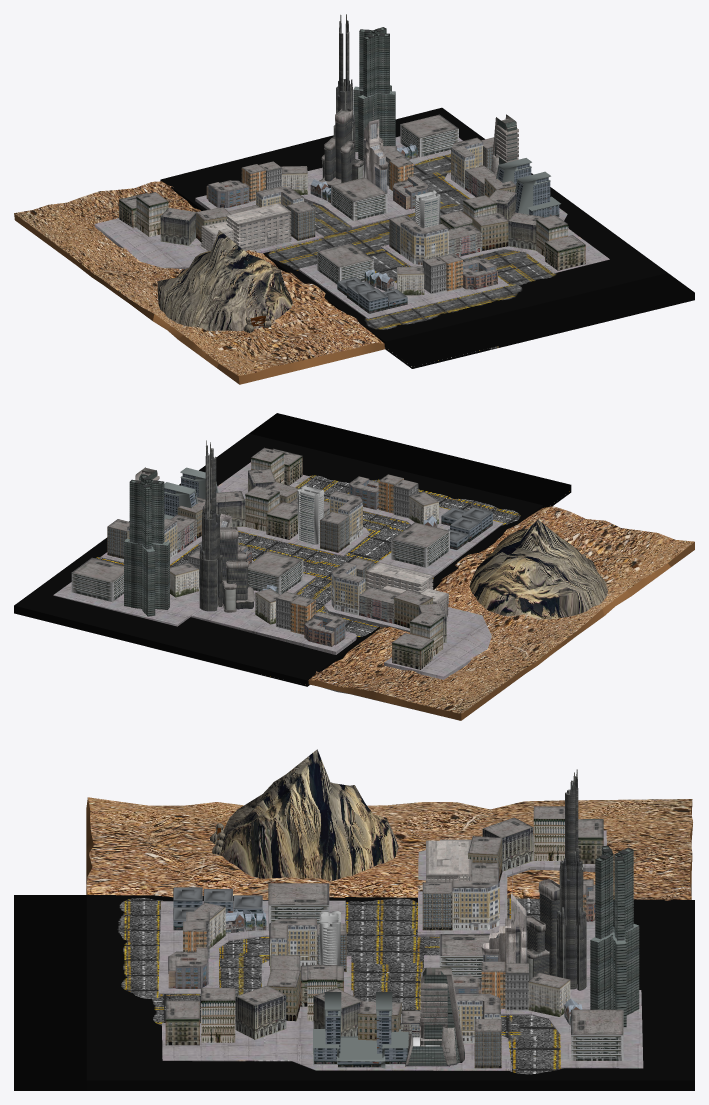
Rendered from Mapa animacion Hospital.fbx.
3 renders of one model, top to bottom at view 1: azimuth 30°, elevation 25°; view 2: azimuth 150°, elevation 25°; view 3: azimuth 270°, elevation 25°, orthographic. The views are drawn at different scales.
Parts seen in each view (by area): view 1: The City, Piso, Tierra, Montaña, Banquetas; view 2: The City, Piso, Tierra, Banquetas, Montaña; view 3: The City, Piso, Tierra, Banquetas, Montaña.
Boxes of the visible parts, bbox=[...] form: The City: bbox=[119, 14, 585, 313]; Piso: bbox=[160, 107, 694, 368]; Tierra: bbox=[14, 181, 385, 384]; Montaña: bbox=[157, 230, 292, 331]; Banquetas: bbox=[94, 136, 609, 319]; The City: bbox=[71, 440, 492, 669]; Piso: bbox=[14, 413, 571, 686]; Tierra: bbox=[308, 506, 694, 720]; Banquetas: bbox=[53, 462, 503, 679]; Montaña: bbox=[469, 519, 607, 619]; The City: bbox=[165, 769, 639, 1068]; Piso: bbox=[14, 895, 694, 1090]; Tierra: bbox=[86, 797, 692, 900]; Banquetas: bbox=[158, 830, 643, 1070]; Montaña: bbox=[220, 749, 398, 881].
Bounding box in the file's own units: 233018 × 88342 × 237826.
